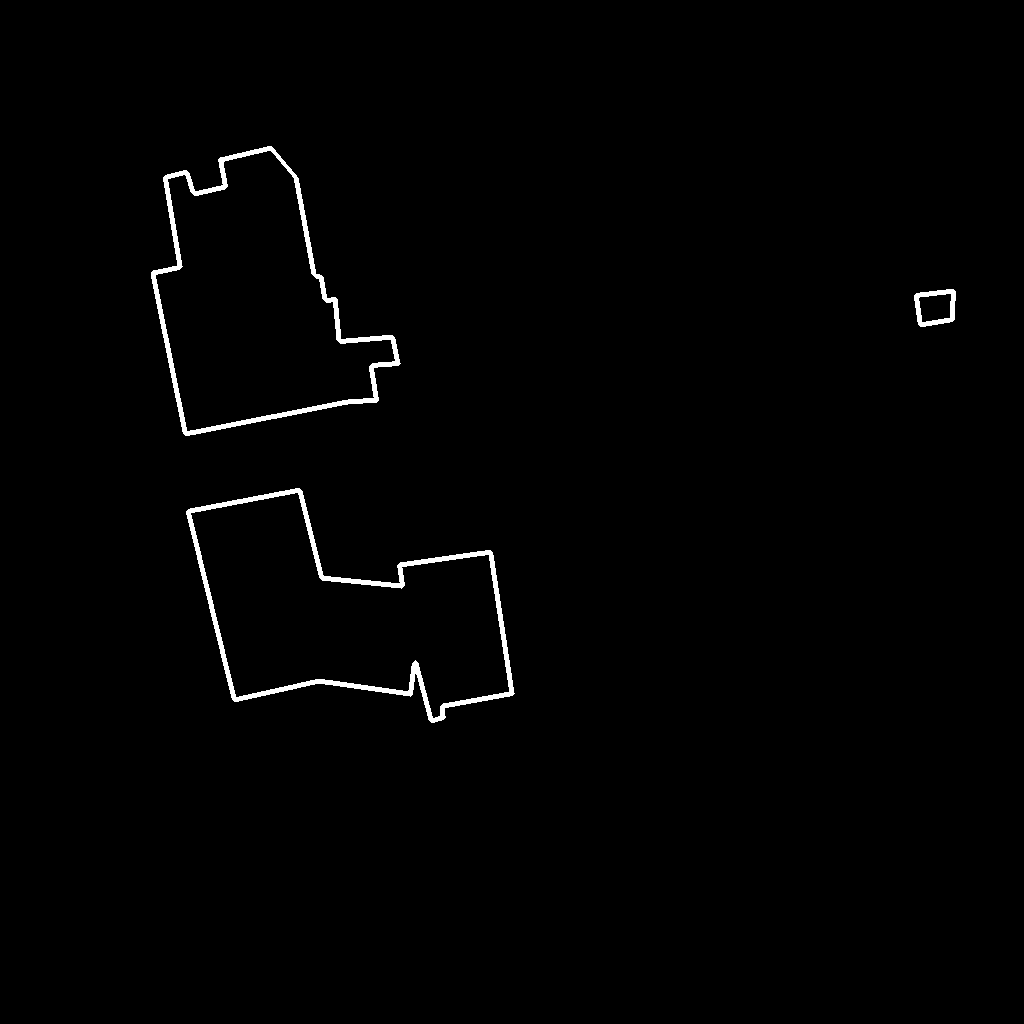building: (188, 490, 513, 722), (153, 148, 399, 435), (916, 291, 955, 326)
